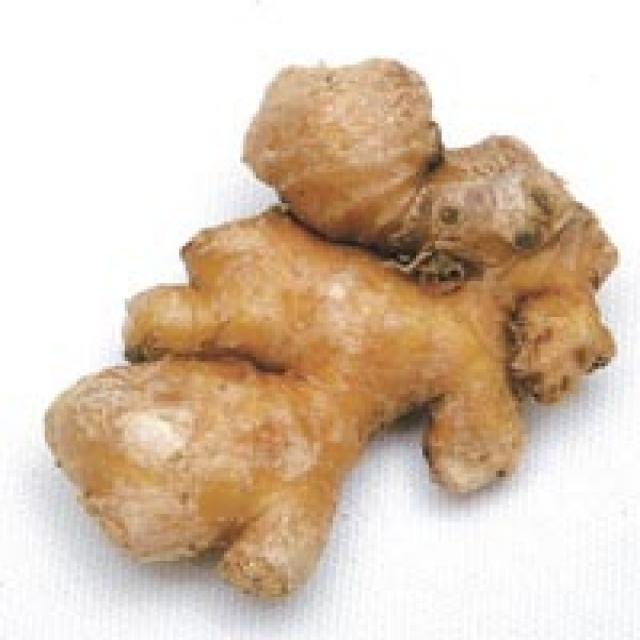ginger: (13, 56, 640, 618)
